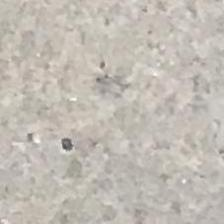Non_Crack: (19, 20, 182, 188)
